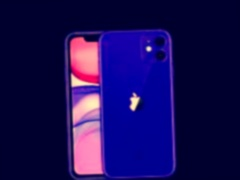iphone: (65, 30, 142, 180)
